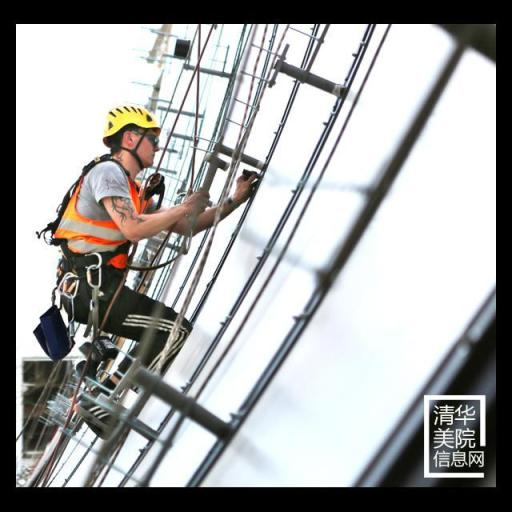goggles: (128, 124, 166, 150)
helmet: (95, 102, 162, 144)
vest: (54, 156, 150, 274)
